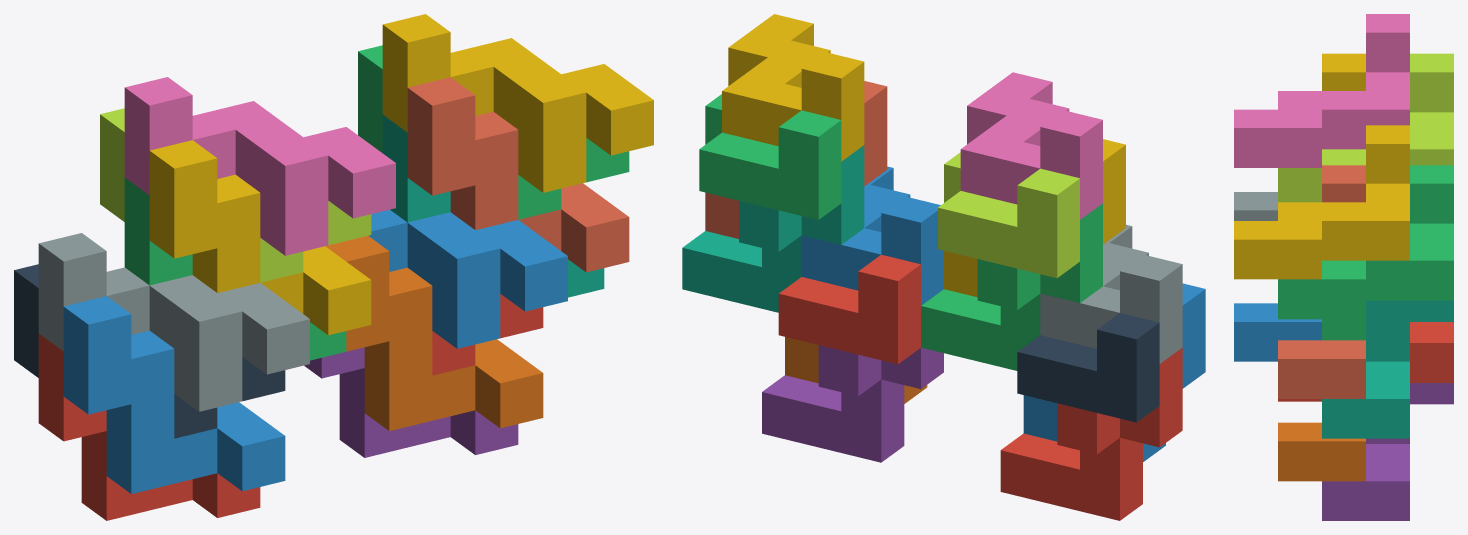
Rendered from tiling.obj.
3 views of the same model, side by side, from view 1: azimuth 30°, elevation 25°; view 2: azimuth 150°, elevation 25°; view 3: azimuth 270°, elevation 25° (orthographic). The views are drawn at different scales.
Visible parts, largest first — view 1: copy_2_domain_8, copy_2_domain_4, copy_1_domain_2, copy_2_domain_2, copy_1_domain_6, copy_1_domain_8, copy_1_domain_4, copy_2_domain_6, copy_1_domain_1, copy_1_domain_5, copy_2_domain_1, copy_2_domain_3 (+4 smaller); view 2: copy_1_domain_1, copy_2_domain_8, copy_2_domain_4, copy_1_domain_5, copy_1_domain_7, copy_1_domain_3, copy_2_domain_7, copy_2_domain_3, copy_2_domain_1, copy_2_domain_5, copy_2_domain_2, copy_2_domain_6 (+4 smaller); view 3: copy_2_domain_8, copy_2_domain_4, copy_2_domain_7, copy_1_domain_7, copy_2_domain_3, copy_1_domain_8, copy_1_domain_5, copy_1_domain_6, copy_2_domain_6, copy_2_domain_5, copy_1_domain_4, copy_2_domain_2.
Boxes of the visible parts, x1,y1,x2,y2 form: copy_2_domain_8: (382, 14, 653, 192); copy_2_domain_4: (124, 77, 395, 255); copy_1_domain_2: (63, 296, 285, 493); copy_2_domain_2: (38, 233, 309, 411); copy_1_domain_6: (325, 236, 543, 430); copy_1_domain_8: (407, 77, 629, 272); copy_1_domain_4: (149, 140, 371, 335); copy_2_domain_6: (368, 209, 567, 348); copy_1_domain_1: (38, 333, 260, 520); copy_1_domain_5: (304, 347, 518, 457); copy_2_domain_1: (14, 264, 285, 438); copy_2_domain_3: (100, 108, 371, 282); copy_1_domain_1: (1000, 347, 1182, 520); copy_2_domain_8: (722, 14, 864, 161); copy_2_domain_4: (960, 72, 1102, 219); copy_1_domain_5: (762, 345, 943, 462); copy_1_domain_7: (682, 145, 864, 312); copy_1_domain_3: (921, 203, 1102, 370); copy_2_domain_7: (699, 94, 841, 219); copy_2_domain_3: (938, 152, 1079, 278); copy_2_domain_1: (1017, 313, 1159, 422); copy_2_domain_5: (778, 254, 920, 364); copy_2_domain_2: (1040, 224, 1182, 363); copy_2_domain_6: (801, 166, 943, 305); copy_2_domain_8: (1234, 125, 1409, 279); copy_2_domain_4: (1234, 14, 1409, 167); copy_2_domain_7: (1278, 165, 1453, 340); copy_1_domain_7: (1322, 300, 1453, 438); copy_2_domain_3: (1278, 53, 1453, 202); copy_1_domain_8: (1278, 165, 1365, 398); copy_1_domain_5: (1322, 383, 1453, 520); copy_1_domain_6: (1278, 422, 1365, 481); copy_2_domain_6: (1234, 303, 1321, 361); copy_2_domain_5: (1278, 322, 1453, 401); copy_1_domain_4: (1322, 53, 1365, 90); copy_2_domain_2: (1234, 192, 1277, 220).
Bounding box in the file's own units: 12 × 9 × 5.
